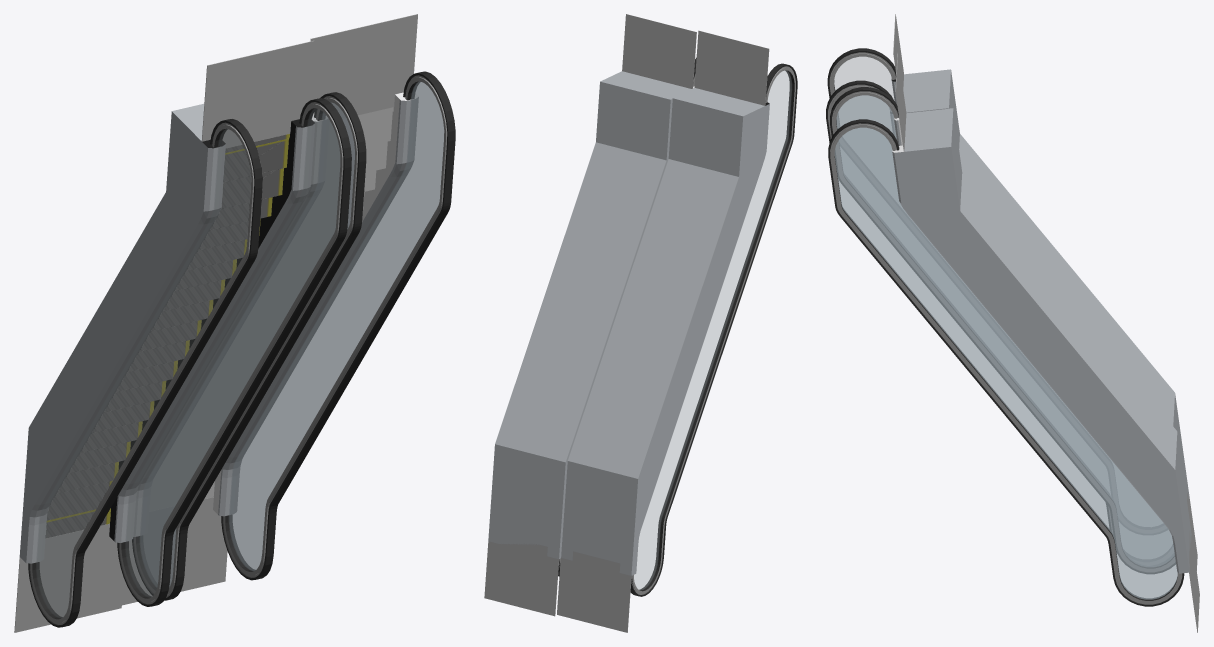
File: Thang bộ-cuốn.glb
3 renders of one model, left to right at view 1: azimuth 30°, elevation 25°; view 2: azimuth 150°, elevation 25°; view 3: azimuth 270°, elevation 25°, orthographic. The views are drawn at different scales.
Visible parts, largest first — view 1: world; view 2: world; view 3: world.
Boxes of the visible parts, box(x1,y1,x2,y2) form: world: box(14, 14, 455, 632); world: box(484, 14, 797, 632); world: box(826, 14, 1199, 632).
Bounding box in the file's own units: 267 × 836 × 526.
10 materials, 1 textured.
